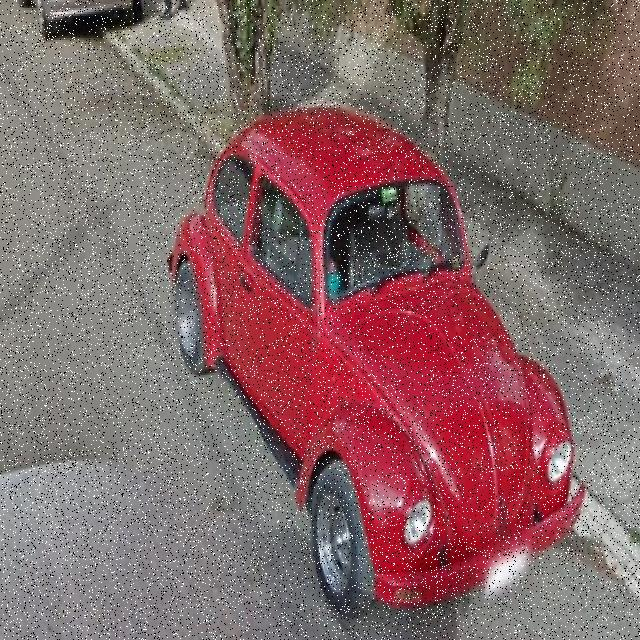cars: (176, 100, 583, 623)
